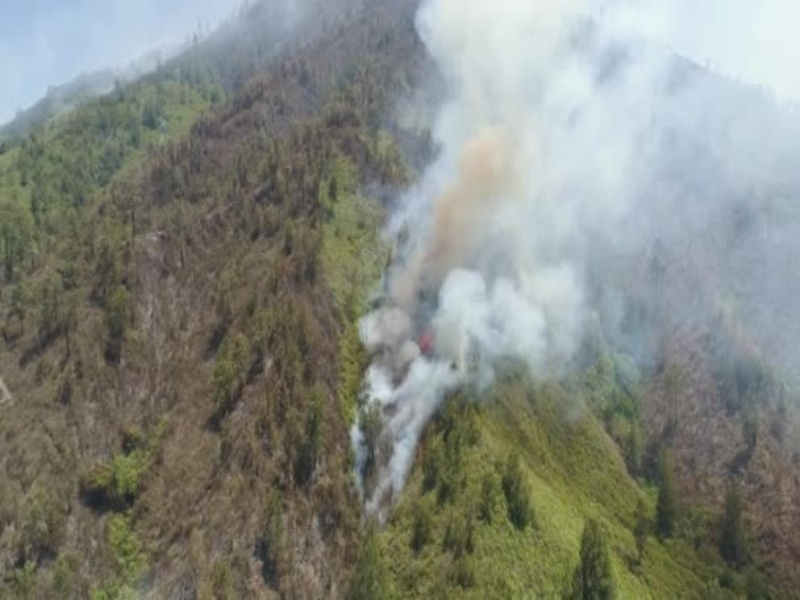smoke: (361, 1, 795, 384)
